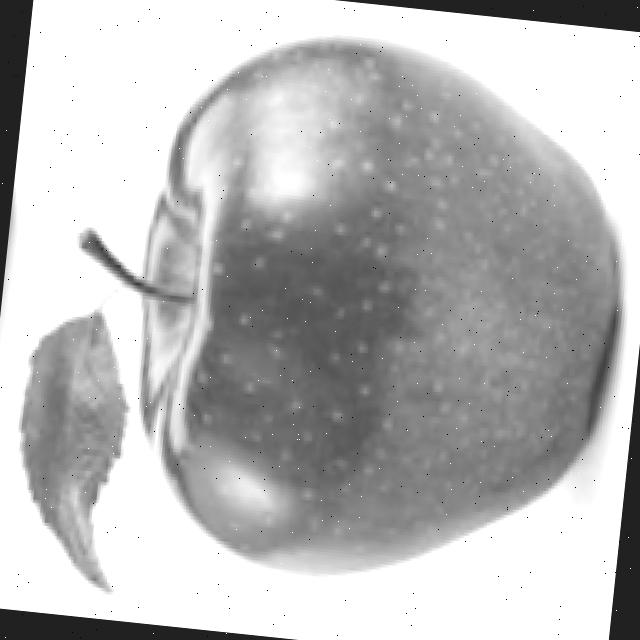Ripe: (95, 3, 640, 616)
